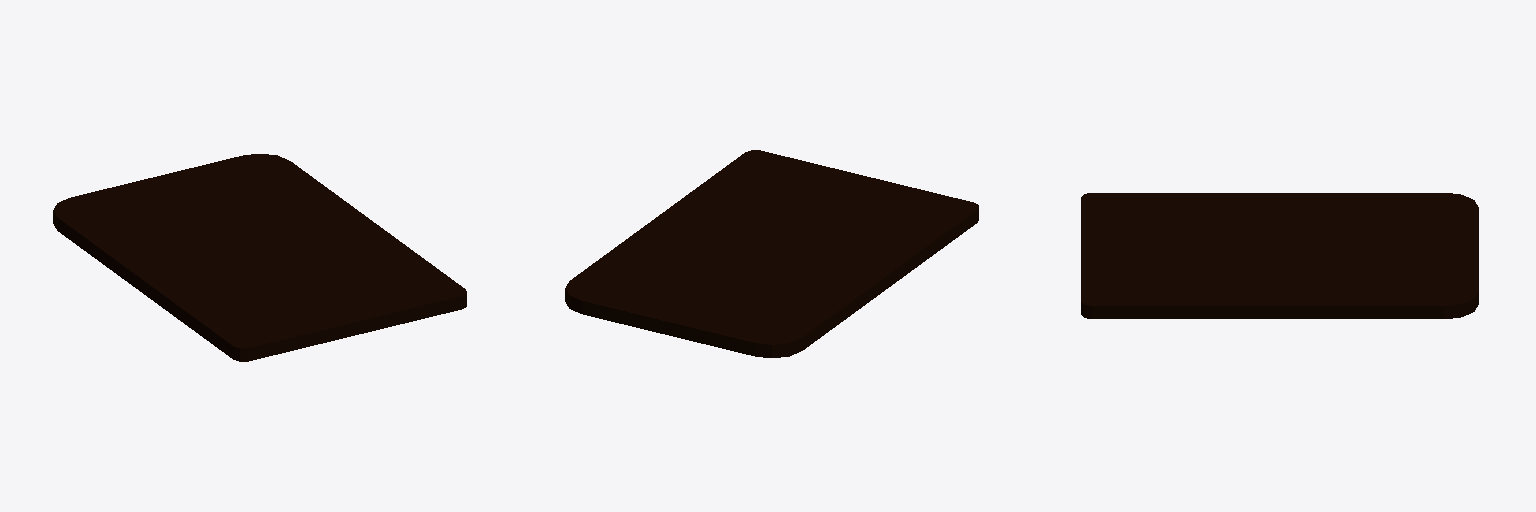
File: Board.obj
3 renders of one model, left to right at view 1: azimuth 30°, elevation 25°; view 2: azimuth 150°, elevation 25°; view 3: azimuth 270°, elevation 25°, orthographic.
Parts seen in each view (by area): view 1: Cube; view 2: Cube; view 3: Cube.
Boxes of the visible parts, x1=… form: Cube: x1=53, y1=154, x2=466, y2=361; Cube: x1=565, y1=150, x2=978, y2=357; Cube: x1=1081, y1=193, x2=1478, y2=318.
Size of the model in its own units: 2.98 by 0.1649 by 4.41.